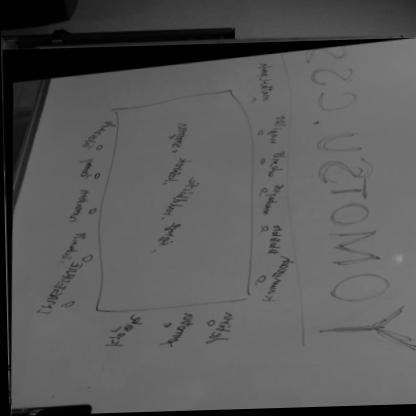Handwritten text: (291, 52, 416, 372), (198, 309, 239, 350)
Whiteboard: (1, 33, 416, 416)
